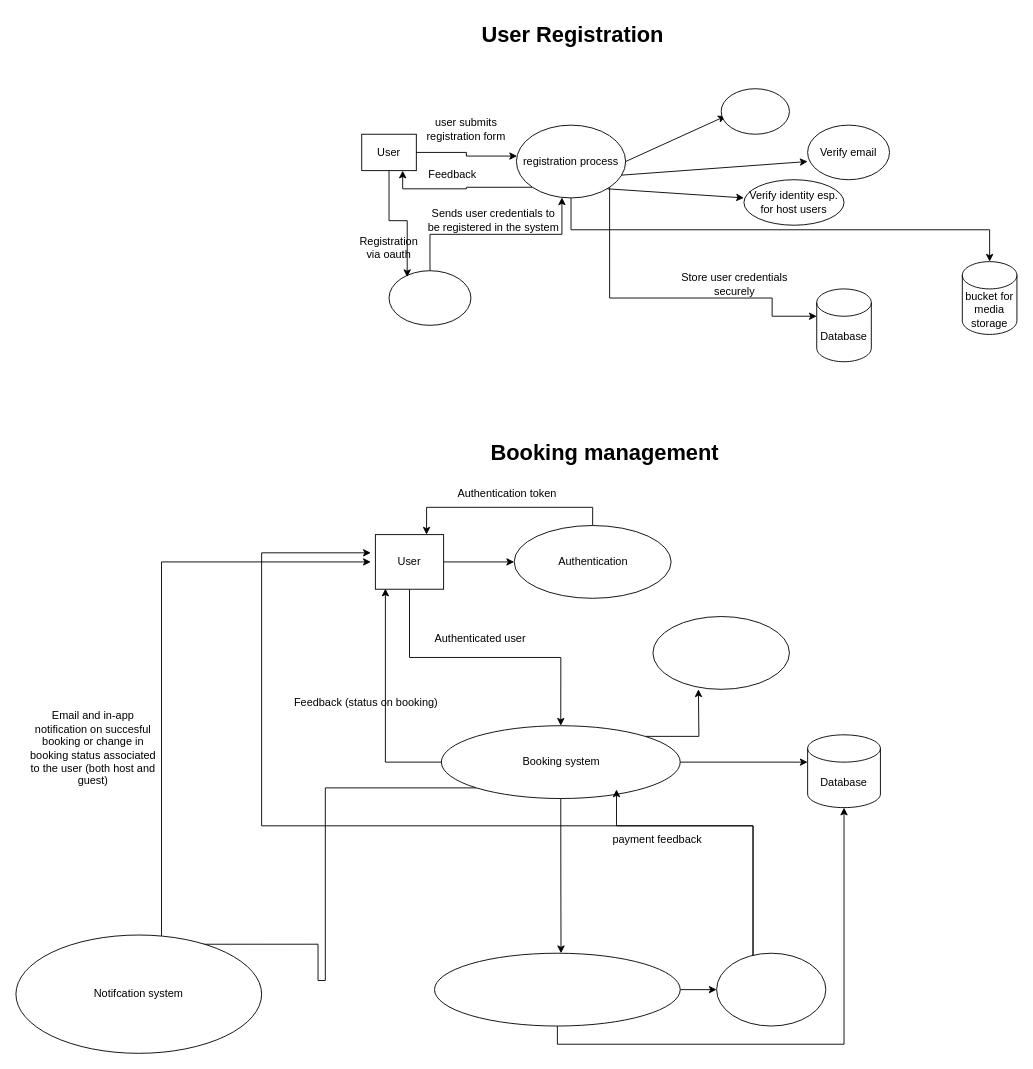
The diagram is 1033 pixels wide and 1069 high, and some of its shapes have lost their labels. Here are the shapes that lost their labels. From the top down, the centre of each, then its label:
point 754,111: clean data
point 429,297: OAUTH
point 720,652: Checks booking dates doesn't overlap
point 557,989: payment system
point 771,989: Payment gateway
